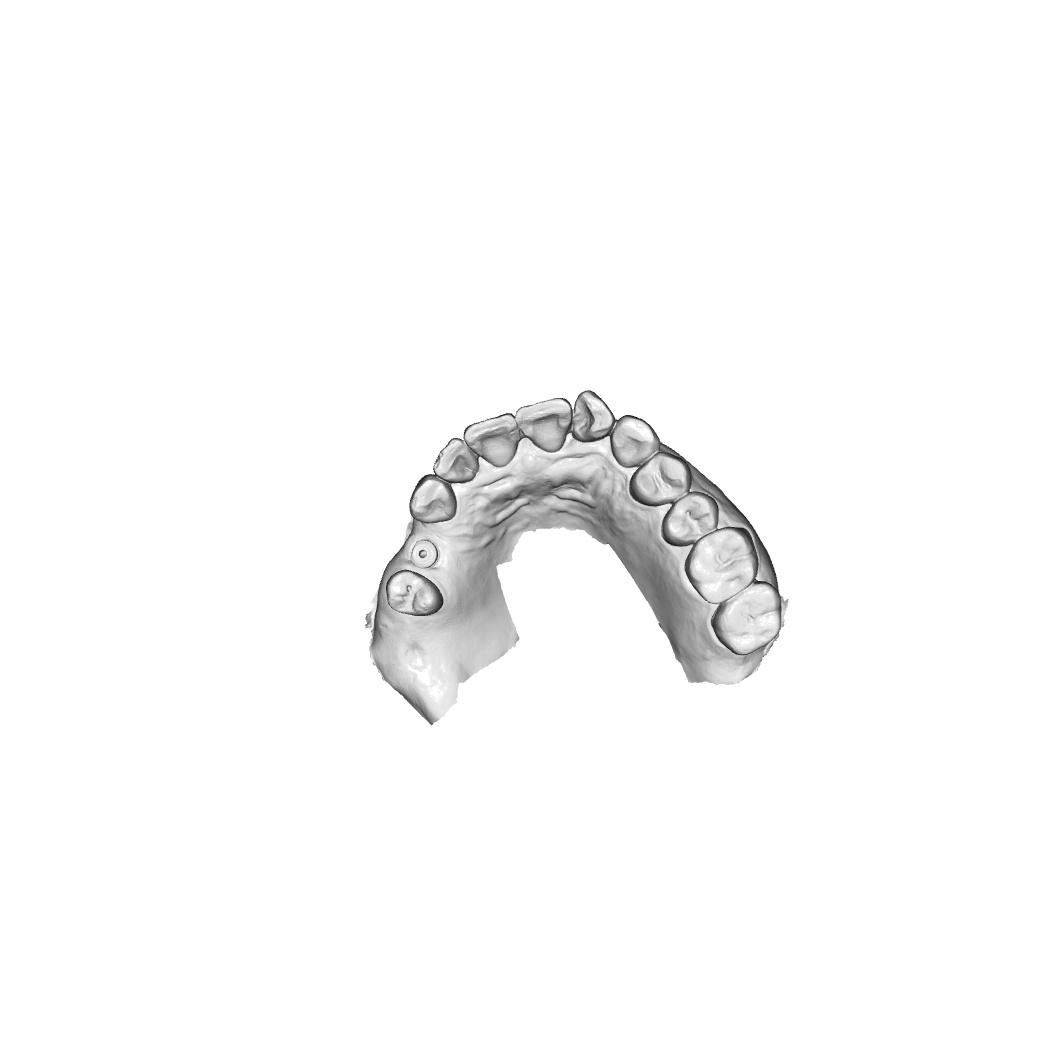canine: (608, 413, 661, 469), (406, 472, 460, 526)
implant: (409, 539, 439, 569)
incisor: (514, 396, 573, 456), (461, 411, 521, 469), (569, 388, 617, 444), (431, 436, 479, 484)
molar: (682, 524, 758, 606), (709, 579, 784, 657)
premolar: (629, 449, 693, 508), (659, 489, 721, 549), (384, 569, 447, 618)
